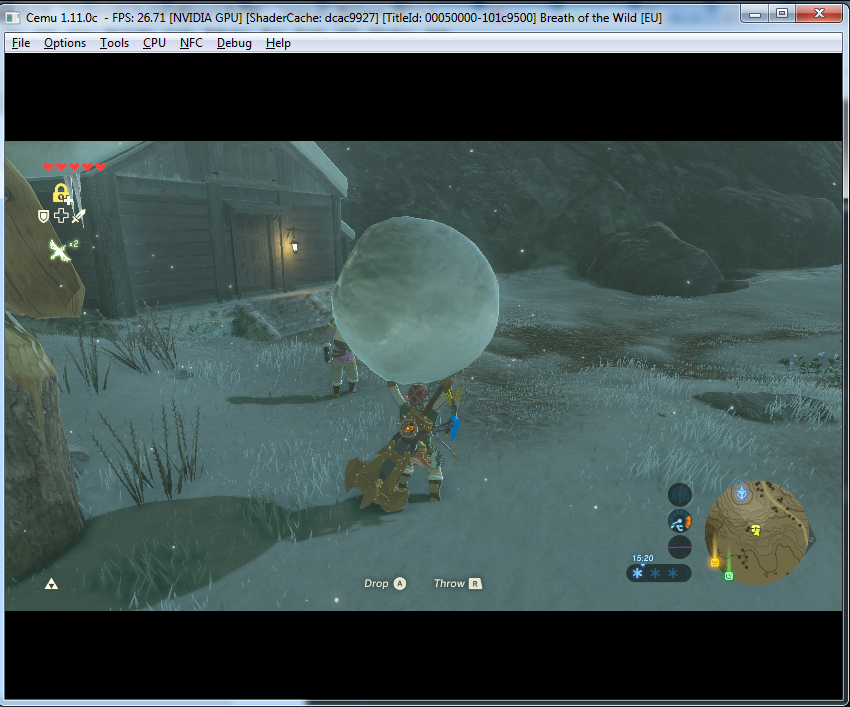link: (338, 366, 482, 518)
snowball: (330, 221, 508, 383)
